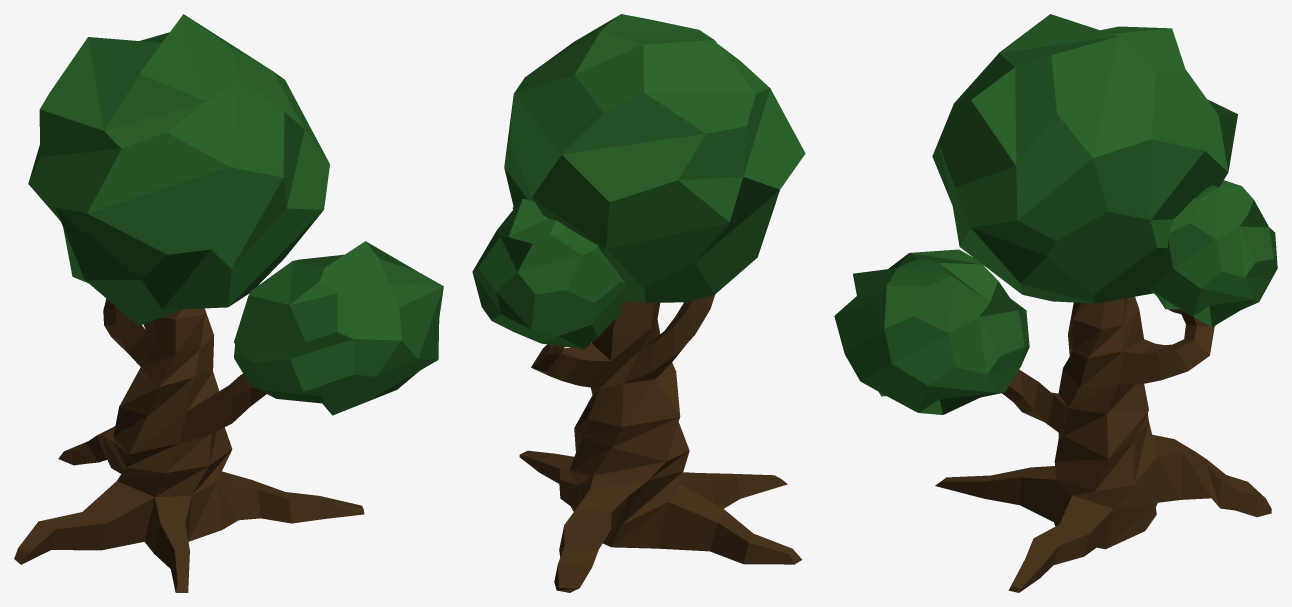
The model's file is trees1.obj.
3 views of the same model, side by side, from view 1: azimuth 30°, elevation 25°; view 2: azimuth 150°, elevation 25°; view 3: azimuth 270°, elevation 25° (orthographic).
Size of the model in its own units: 1013 by 1418 by 1140.
